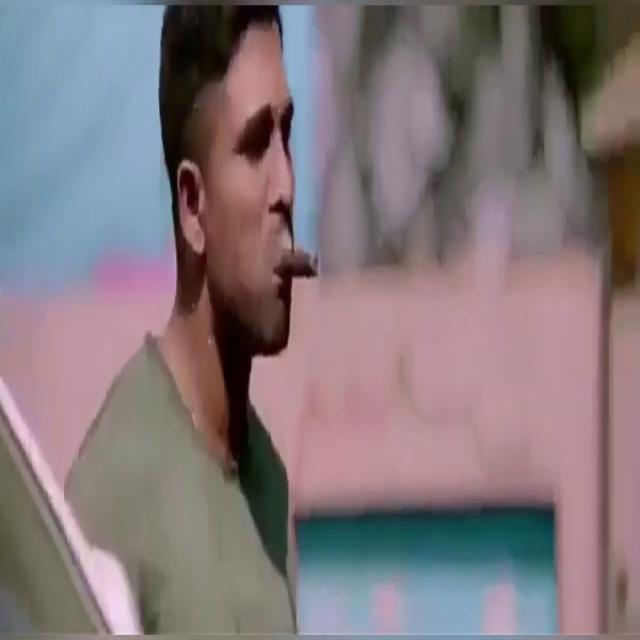smoking: (195, 94, 328, 350)
